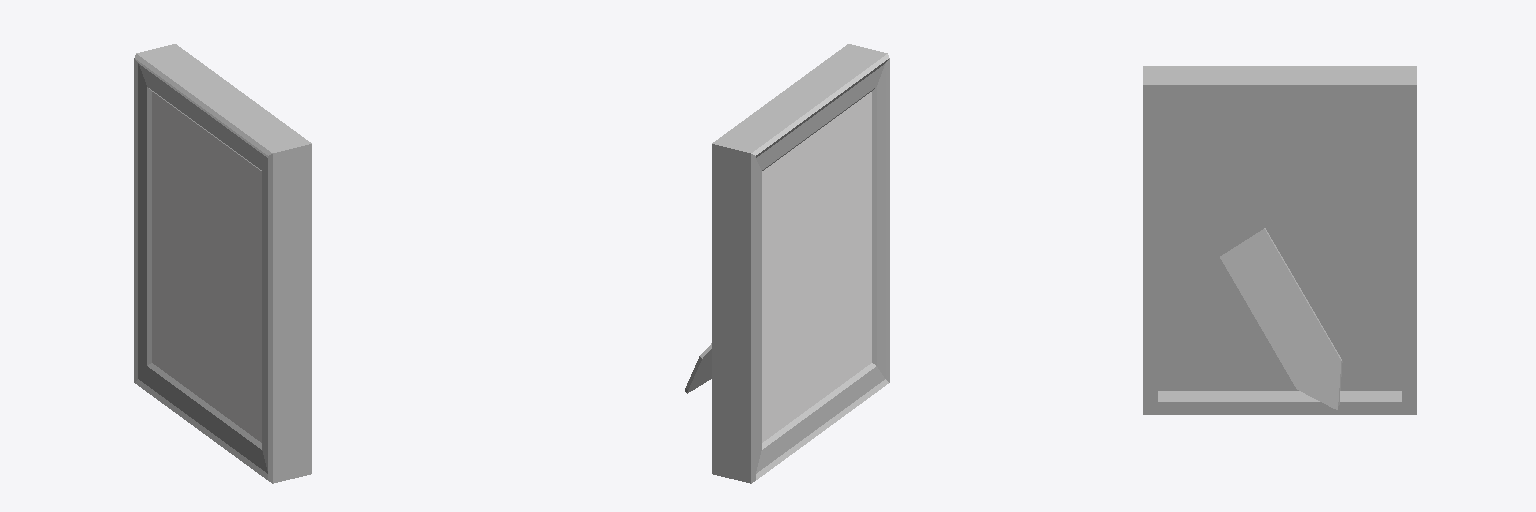
Rendered from Cuadro2.obj.
3 views of the same model, side by side, from view 1: azimuth 30°, elevation 25°; view 2: azimuth 150°, elevation 25°; view 3: azimuth 270°, elevation 25° (orthographic).
Visible parts, largest first — view 1: Ikea_Frame_Frame.001, Ikea_Frame_Glass.001; view 2: Ikea_Frame_Frame.001, Ikea_Frame_Glass.001; view 3: Ikea_Frame_Frame.001.
Boxes of the visible parts, x1,y1,x2,y2 form: Ikea_Frame_Frame.001: [134, 44, 311, 483]; Ikea_Frame_Glass.001: [152, 92, 261, 442]; Ikea_Frame_Frame.001: [685, 44, 889, 483]; Ikea_Frame_Glass.001: [762, 92, 871, 442]; Ikea_Frame_Frame.001: [1143, 66, 1416, 414].
Bounding box in the file's own units: 8.34 × 24 × 18.